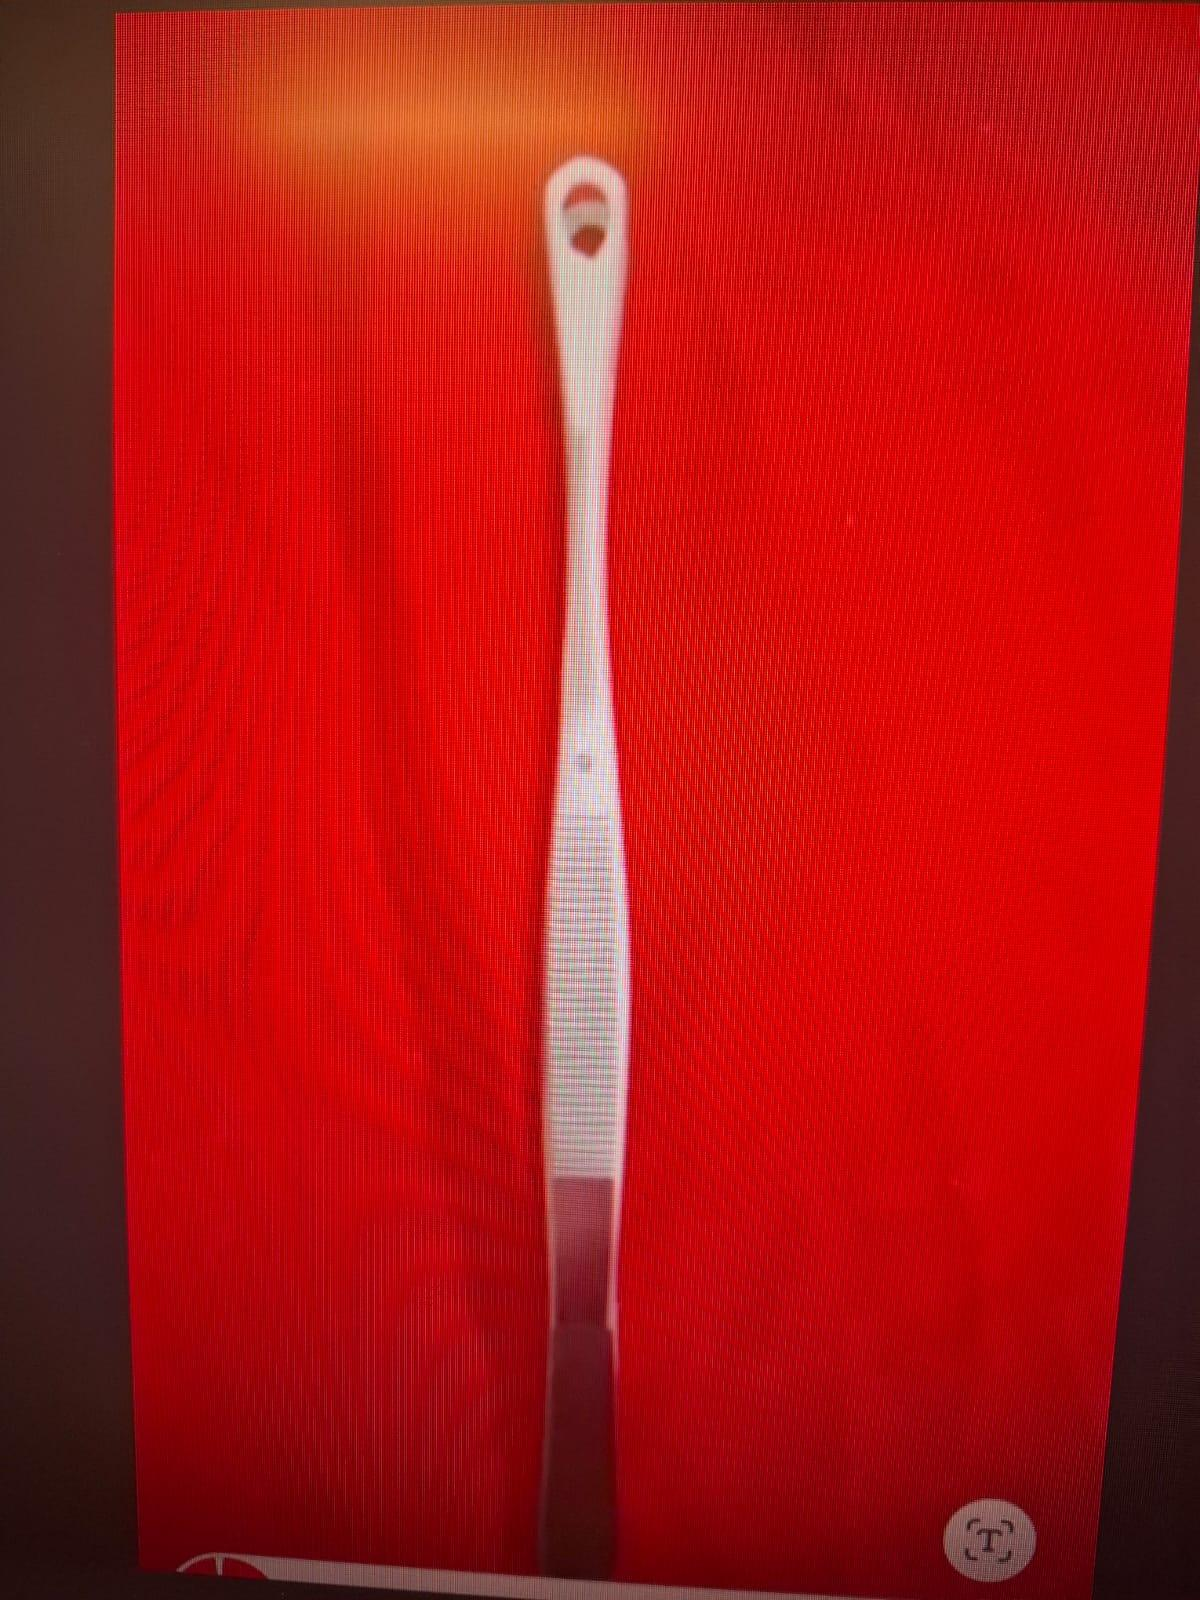Eye Intestinal Forceps: (410, 135, 753, 1565)
